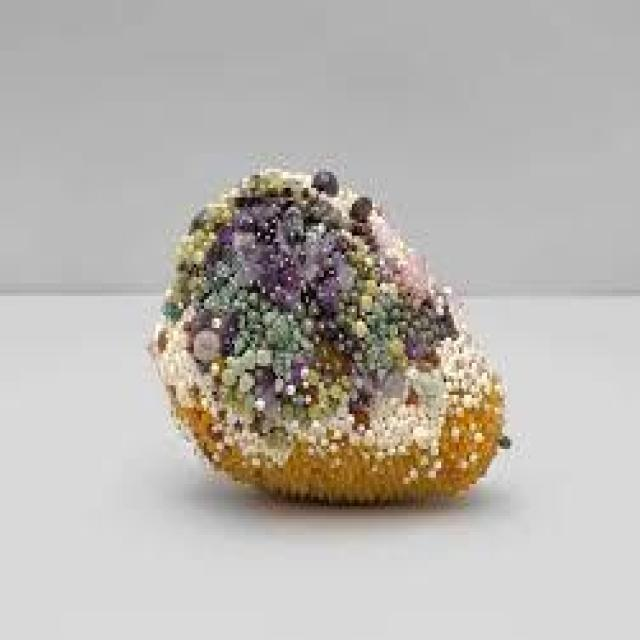organic: (148, 169, 513, 509)
